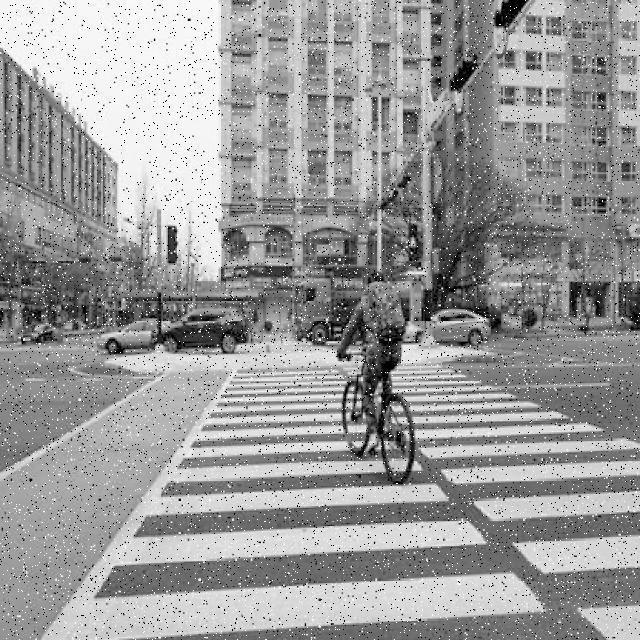crosswalk: (76, 367, 563, 635), (348, 366, 640, 640)
